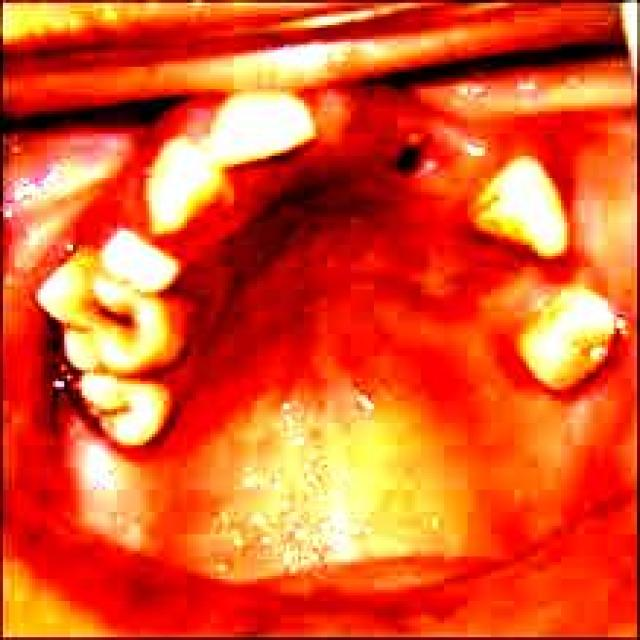caries: (64, 274, 174, 354)
